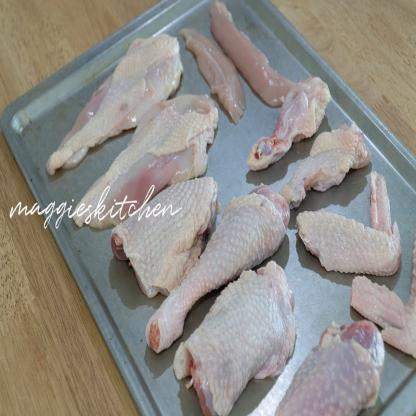chicken: (137, 180, 287, 362), (76, 78, 214, 244), (49, 27, 180, 186), (168, 262, 298, 408), (102, 173, 220, 285), (281, 318, 401, 416), (193, 6, 296, 118), (294, 188, 408, 288), (241, 81, 342, 188), (182, 21, 254, 134), (354, 244, 415, 373), (276, 131, 378, 206)
